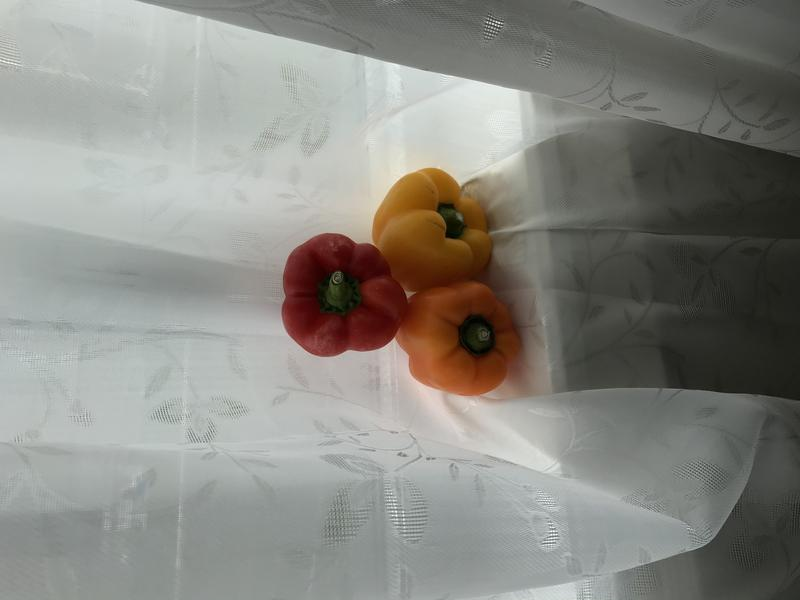orange_pepper: (393, 281, 526, 402)
red_pepper: (275, 230, 411, 362)
yellow_pepper: (364, 162, 497, 296)
